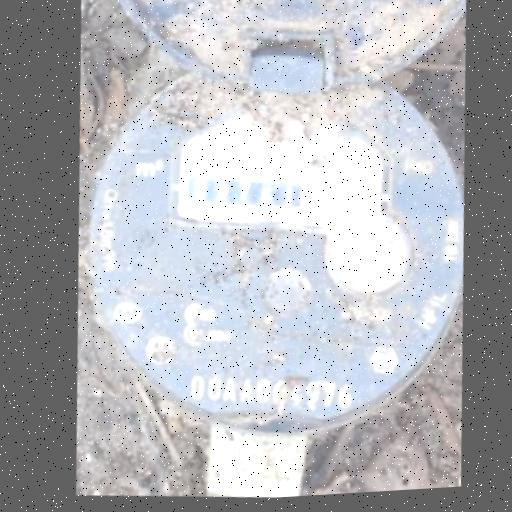0: (185, 174, 216, 205)
1: (278, 180, 303, 210)
2: (211, 177, 236, 206)
6: (256, 179, 282, 209)
7: (233, 179, 259, 208)
border_water_meter_number: (183, 167, 304, 216)
